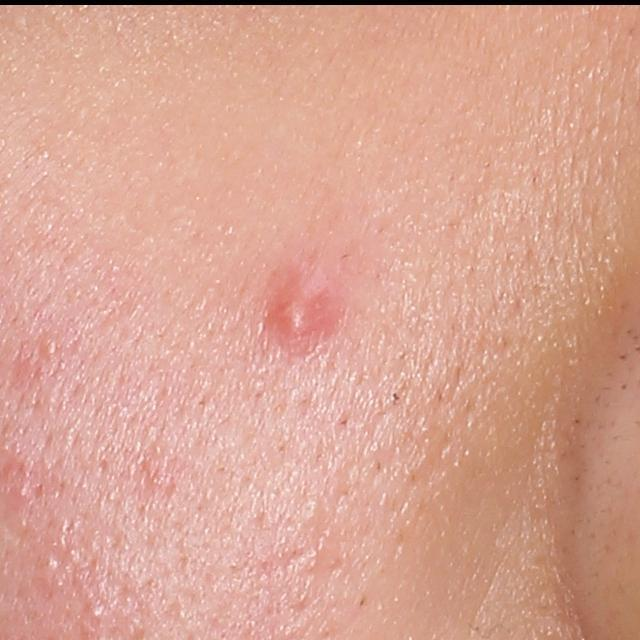comedo: (39, 332, 58, 359), (88, 602, 107, 621), (42, 552, 59, 572)
